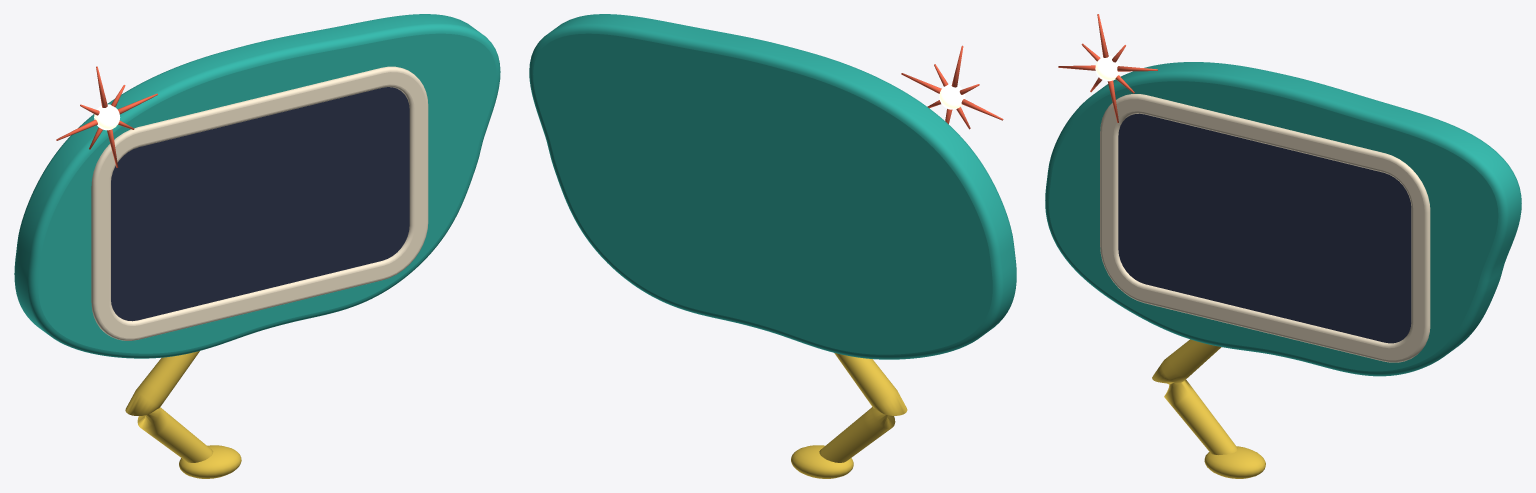
File: BB_KIDNEY_1.glb
3 renders of one model, left to right at view 1: azimuth 30°, elevation 25°; view 2: azimuth 150°, elevation 25°; view 3: azimuth 330°, elevation 25°, orthographic. The views are drawn at different scales.
Visible parts, largest first — view 1: BB_KIDNEY_1_FACE, BB_KIDNEY_1_body, BB_KIDNEY_1_frame, BB_KIDNEY_1_leg, BB_KIDNEY_1_foot, BB_KIDNEY_1_star_core; view 2: BB_KIDNEY_1_body, BB_KIDNEY_1_leg, BB_KIDNEY_1_foot, BB_KIDNEY_1_star_core; view 3: BB_KIDNEY_1_FACE, BB_KIDNEY_1_body, BB_KIDNEY_1_frame, BB_KIDNEY_1_leg, BB_KIDNEY_1_foot.
Part boxes in pixels (x1,y1,x2,y2): BB_KIDNEY_1_FACE: [111, 87, 409, 321]; BB_KIDNEY_1_body: [14, 14, 500, 358]; BB_KIDNEY_1_frame: [91, 66, 428, 340]; BB_KIDNEY_1_leg: [125, 351, 213, 462]; BB_KIDNEY_1_foot: [179, 445, 241, 478]; BB_KIDNEY_1_star_core: [94, 104, 120, 130]; BB_KIDNEY_1_body: [529, 14, 1016, 359]; BB_KIDNEY_1_leg: [819, 353, 907, 462]; BB_KIDNEY_1_foot: [791, 445, 853, 478]; BB_KIDNEY_1_star_core: [939, 83, 965, 109]; BB_KIDNEY_1_FACE: [1118, 113, 1411, 343]; BB_KIDNEY_1_body: [1045, 62, 1521, 376]; BB_KIDNEY_1_frame: [1100, 94, 1430, 362]; BB_KIDNEY_1_leg: [1152, 339, 1237, 454]; BB_KIDNEY_1_foot: [1204, 446, 1265, 478].
Bounding box in the file's own units: 12.37 × 11.22 × 1.5.
